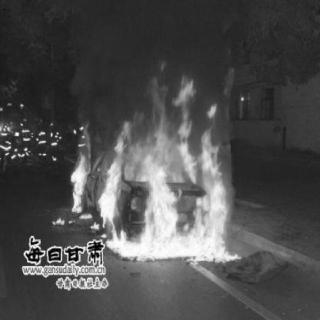Smoke: (79, 11, 229, 131)
